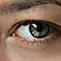eye: (30, 23, 50, 37)
